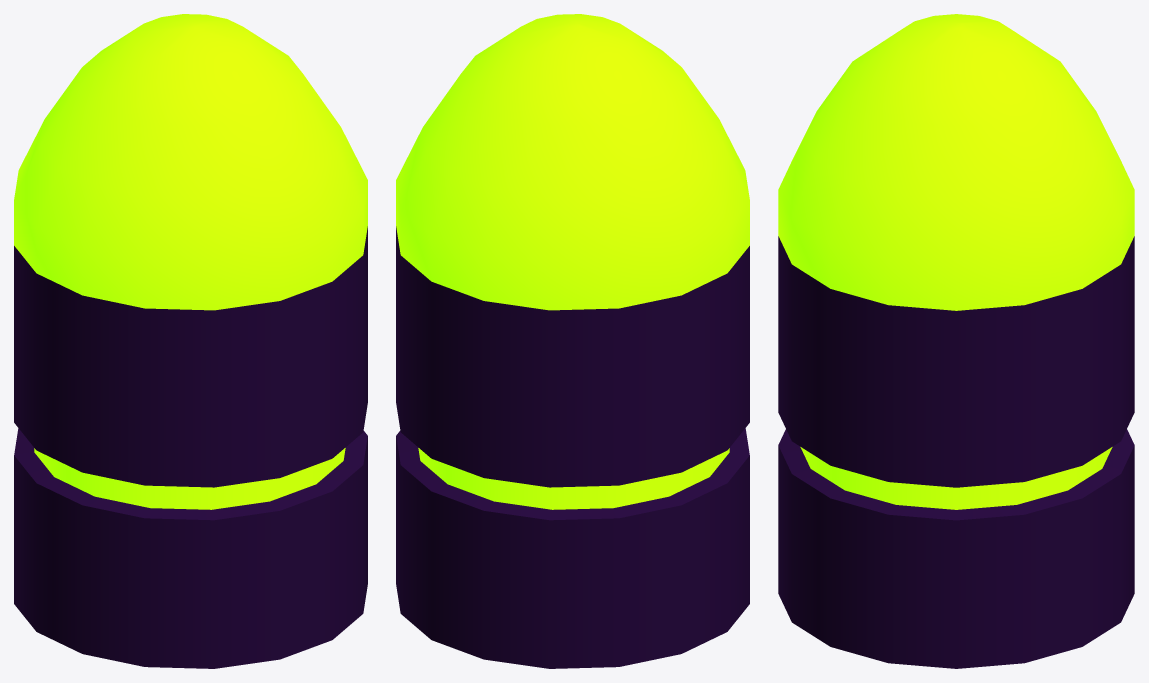
The model's file is bullet_green.fbx.
3 renders of one model, left to right at view 1: azimuth 30°, elevation 25°; view 2: azimuth 150°, elevation 25°; view 3: azimuth 270°, elevation 25°, orthographic.
Parts seen in each view (by area): view 1: Cylinder.007; view 2: Cylinder.007; view 3: Cylinder.007.
Boxes of the visible parts, x1,y1,x2,y2 form: Cylinder.007: (14, 14, 367, 668); Cylinder.007: (396, 14, 749, 668); Cylinder.007: (778, 14, 1134, 668).
Size of the model in its own units: 21.57 by 37.92 by 21.57.
